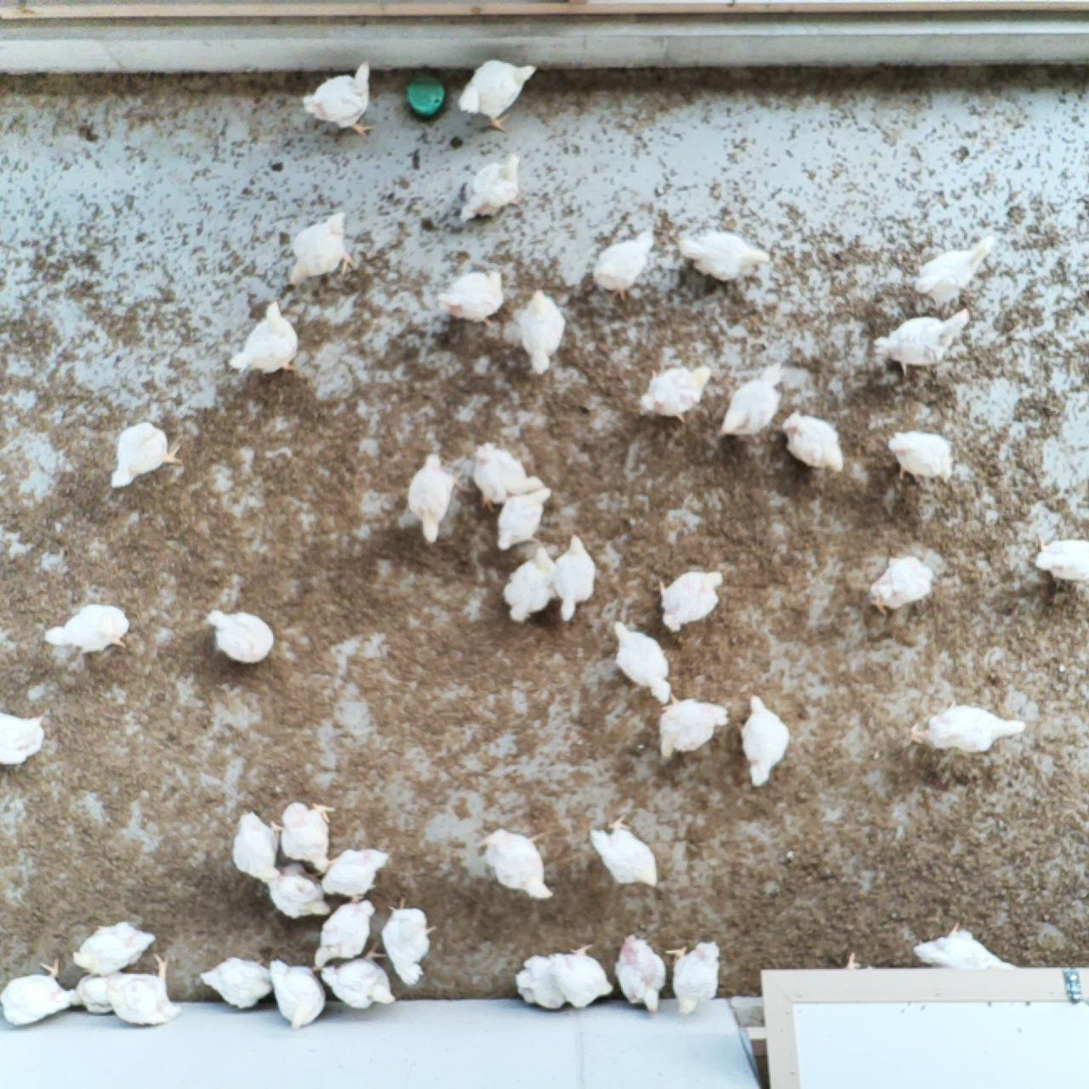chicken: (869, 303, 974, 376), (912, 922, 1016, 993), (906, 695, 1032, 753), (906, 229, 994, 307), (301, 61, 382, 138), (456, 55, 537, 132), (667, 224, 768, 283), (590, 812, 663, 893), (633, 355, 716, 426), (229, 296, 298, 381), (0, 956, 80, 1029), (479, 827, 558, 900), (104, 950, 177, 1028), (465, 436, 545, 507), (655, 690, 729, 765), (716, 362, 787, 440), (318, 944, 400, 1011), (738, 690, 793, 789), (39, 601, 131, 660), (284, 208, 358, 281), (499, 539, 562, 624), (381, 895, 438, 986), (591, 226, 658, 303), (611, 621, 673, 704), (108, 418, 181, 488), (454, 148, 522, 223), (70, 917, 156, 976), (408, 450, 461, 544), (516, 285, 569, 376), (653, 566, 727, 631), (546, 529, 597, 621), (547, 942, 613, 1013), (311, 896, 375, 969), (664, 936, 721, 1017), (779, 406, 844, 477), (200, 954, 277, 1013), (202, 603, 275, 665), (275, 796, 335, 871), (616, 931, 667, 1017), (269, 955, 326, 1031), (318, 844, 390, 904), (888, 425, 954, 490), (865, 554, 935, 614), (493, 482, 551, 553), (232, 806, 284, 885), (434, 265, 505, 321), (515, 953, 574, 1013), (262, 865, 328, 918), (75, 962, 135, 1017), (0, 703, 48, 770), (1034, 537, 1089, 593)
